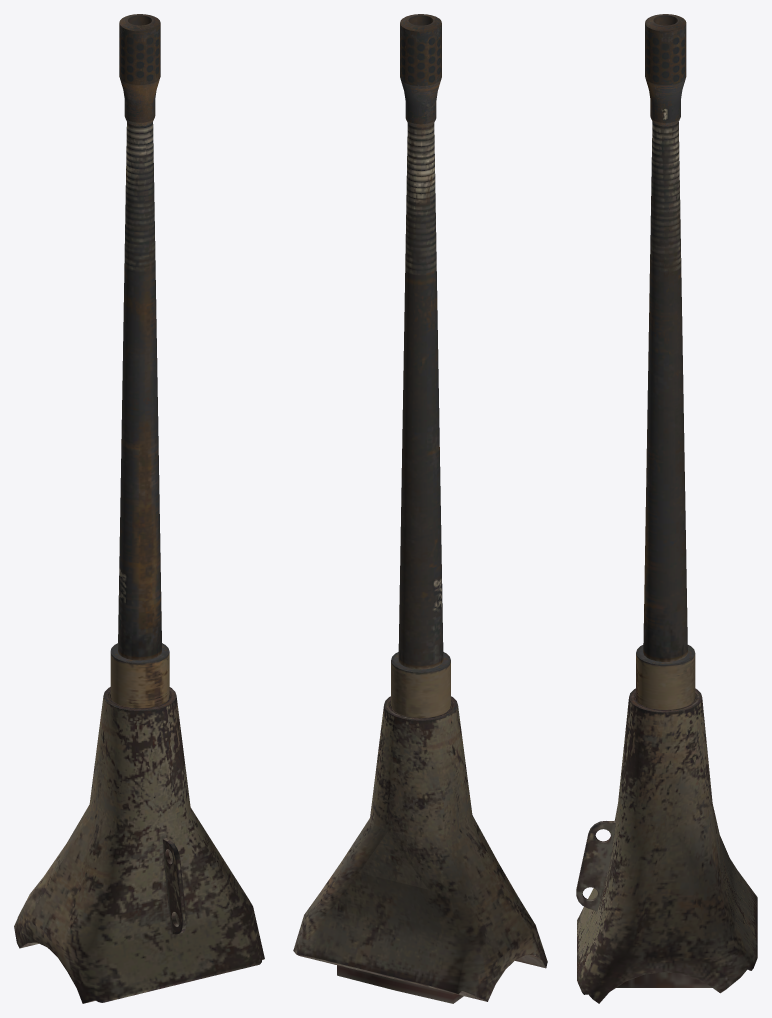
File: Gun_04.glb
The picture shows the model from 3 angles, left to right: view 1: azimuth 30°, elevation 25°; view 2: azimuth 150°, elevation 25°; view 3: azimuth 270°, elevation 25°; orthographic projection.
Parts seen in each view (by area): view 1: set_0_group_0; view 2: set_0_group_0; view 3: set_0_group_0.
Part boxes in pixels (<box>): set_0_group_0: <box>14,14,264,1003</box>; set_0_group_0: <box>293,14,547,1003</box>; set_0_group_0: <box>576,14,757,1003</box>.
Bounding box in the file's own units: 1.18 × 5.66 × 0.9887.
1 material, 1 textured.
